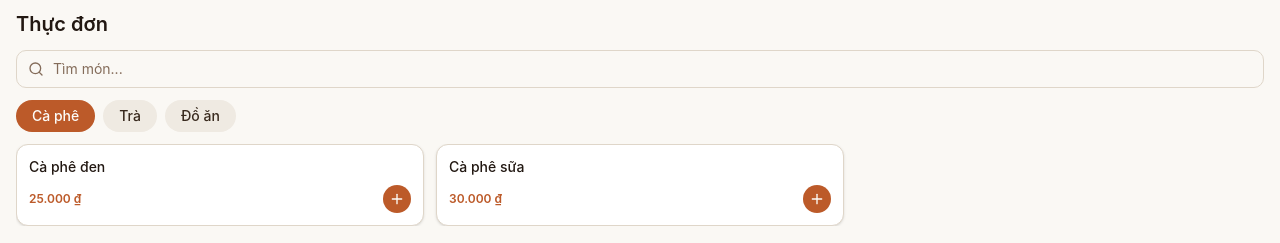
it: MenuGrid › shows items of the clicked group and hides the previous group's items
Click the button "Trà" at point(130, 116), box [103,100,157,132]
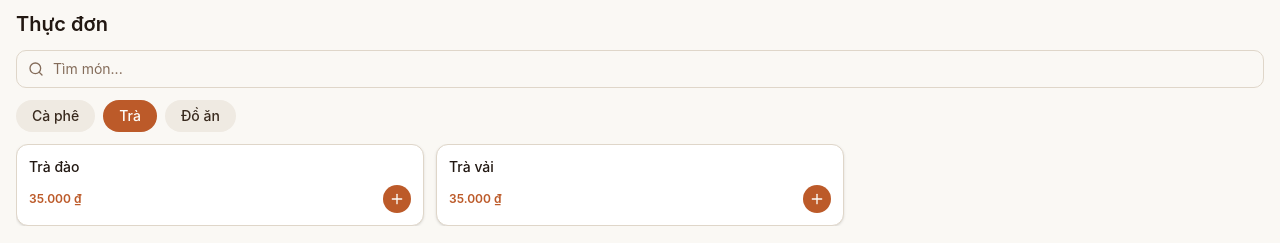
expect the text "Trà đào" is shown: met, box [29,158,80,175]
expect the text "Trà vải" is shown: met, box [449,158,494,175]
expect the text "Cà phê đen" is gone: met
